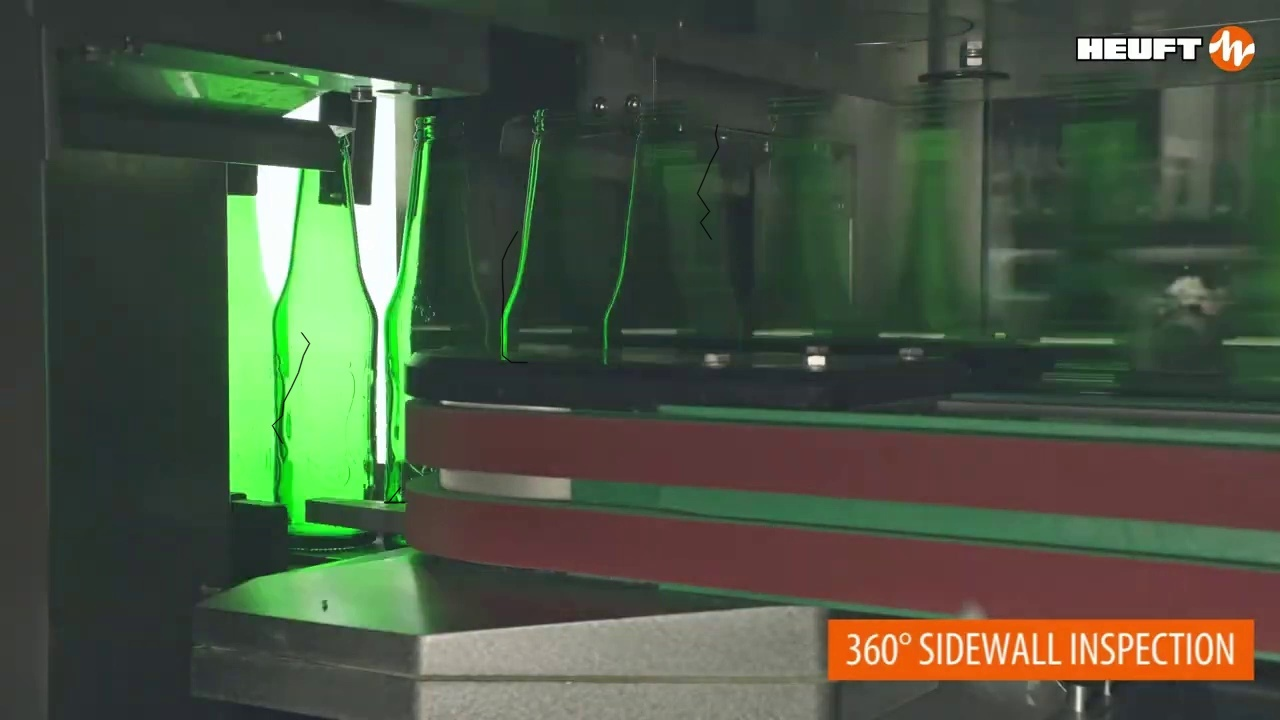bottle: (384, 120, 492, 549), (271, 138, 380, 552), (228, 196, 276, 500)
crack: (272, 332, 309, 443), (502, 231, 527, 362), (697, 124, 718, 239), (384, 487, 404, 502)
